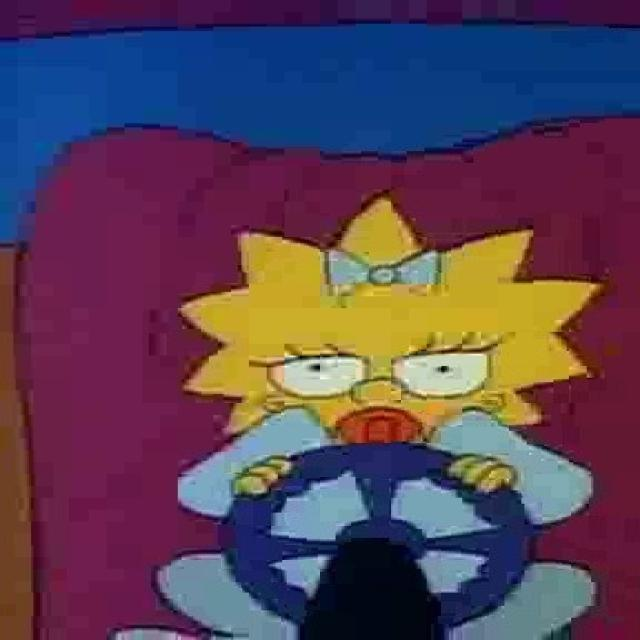Maggie Simpson: (179, 195, 608, 450)
